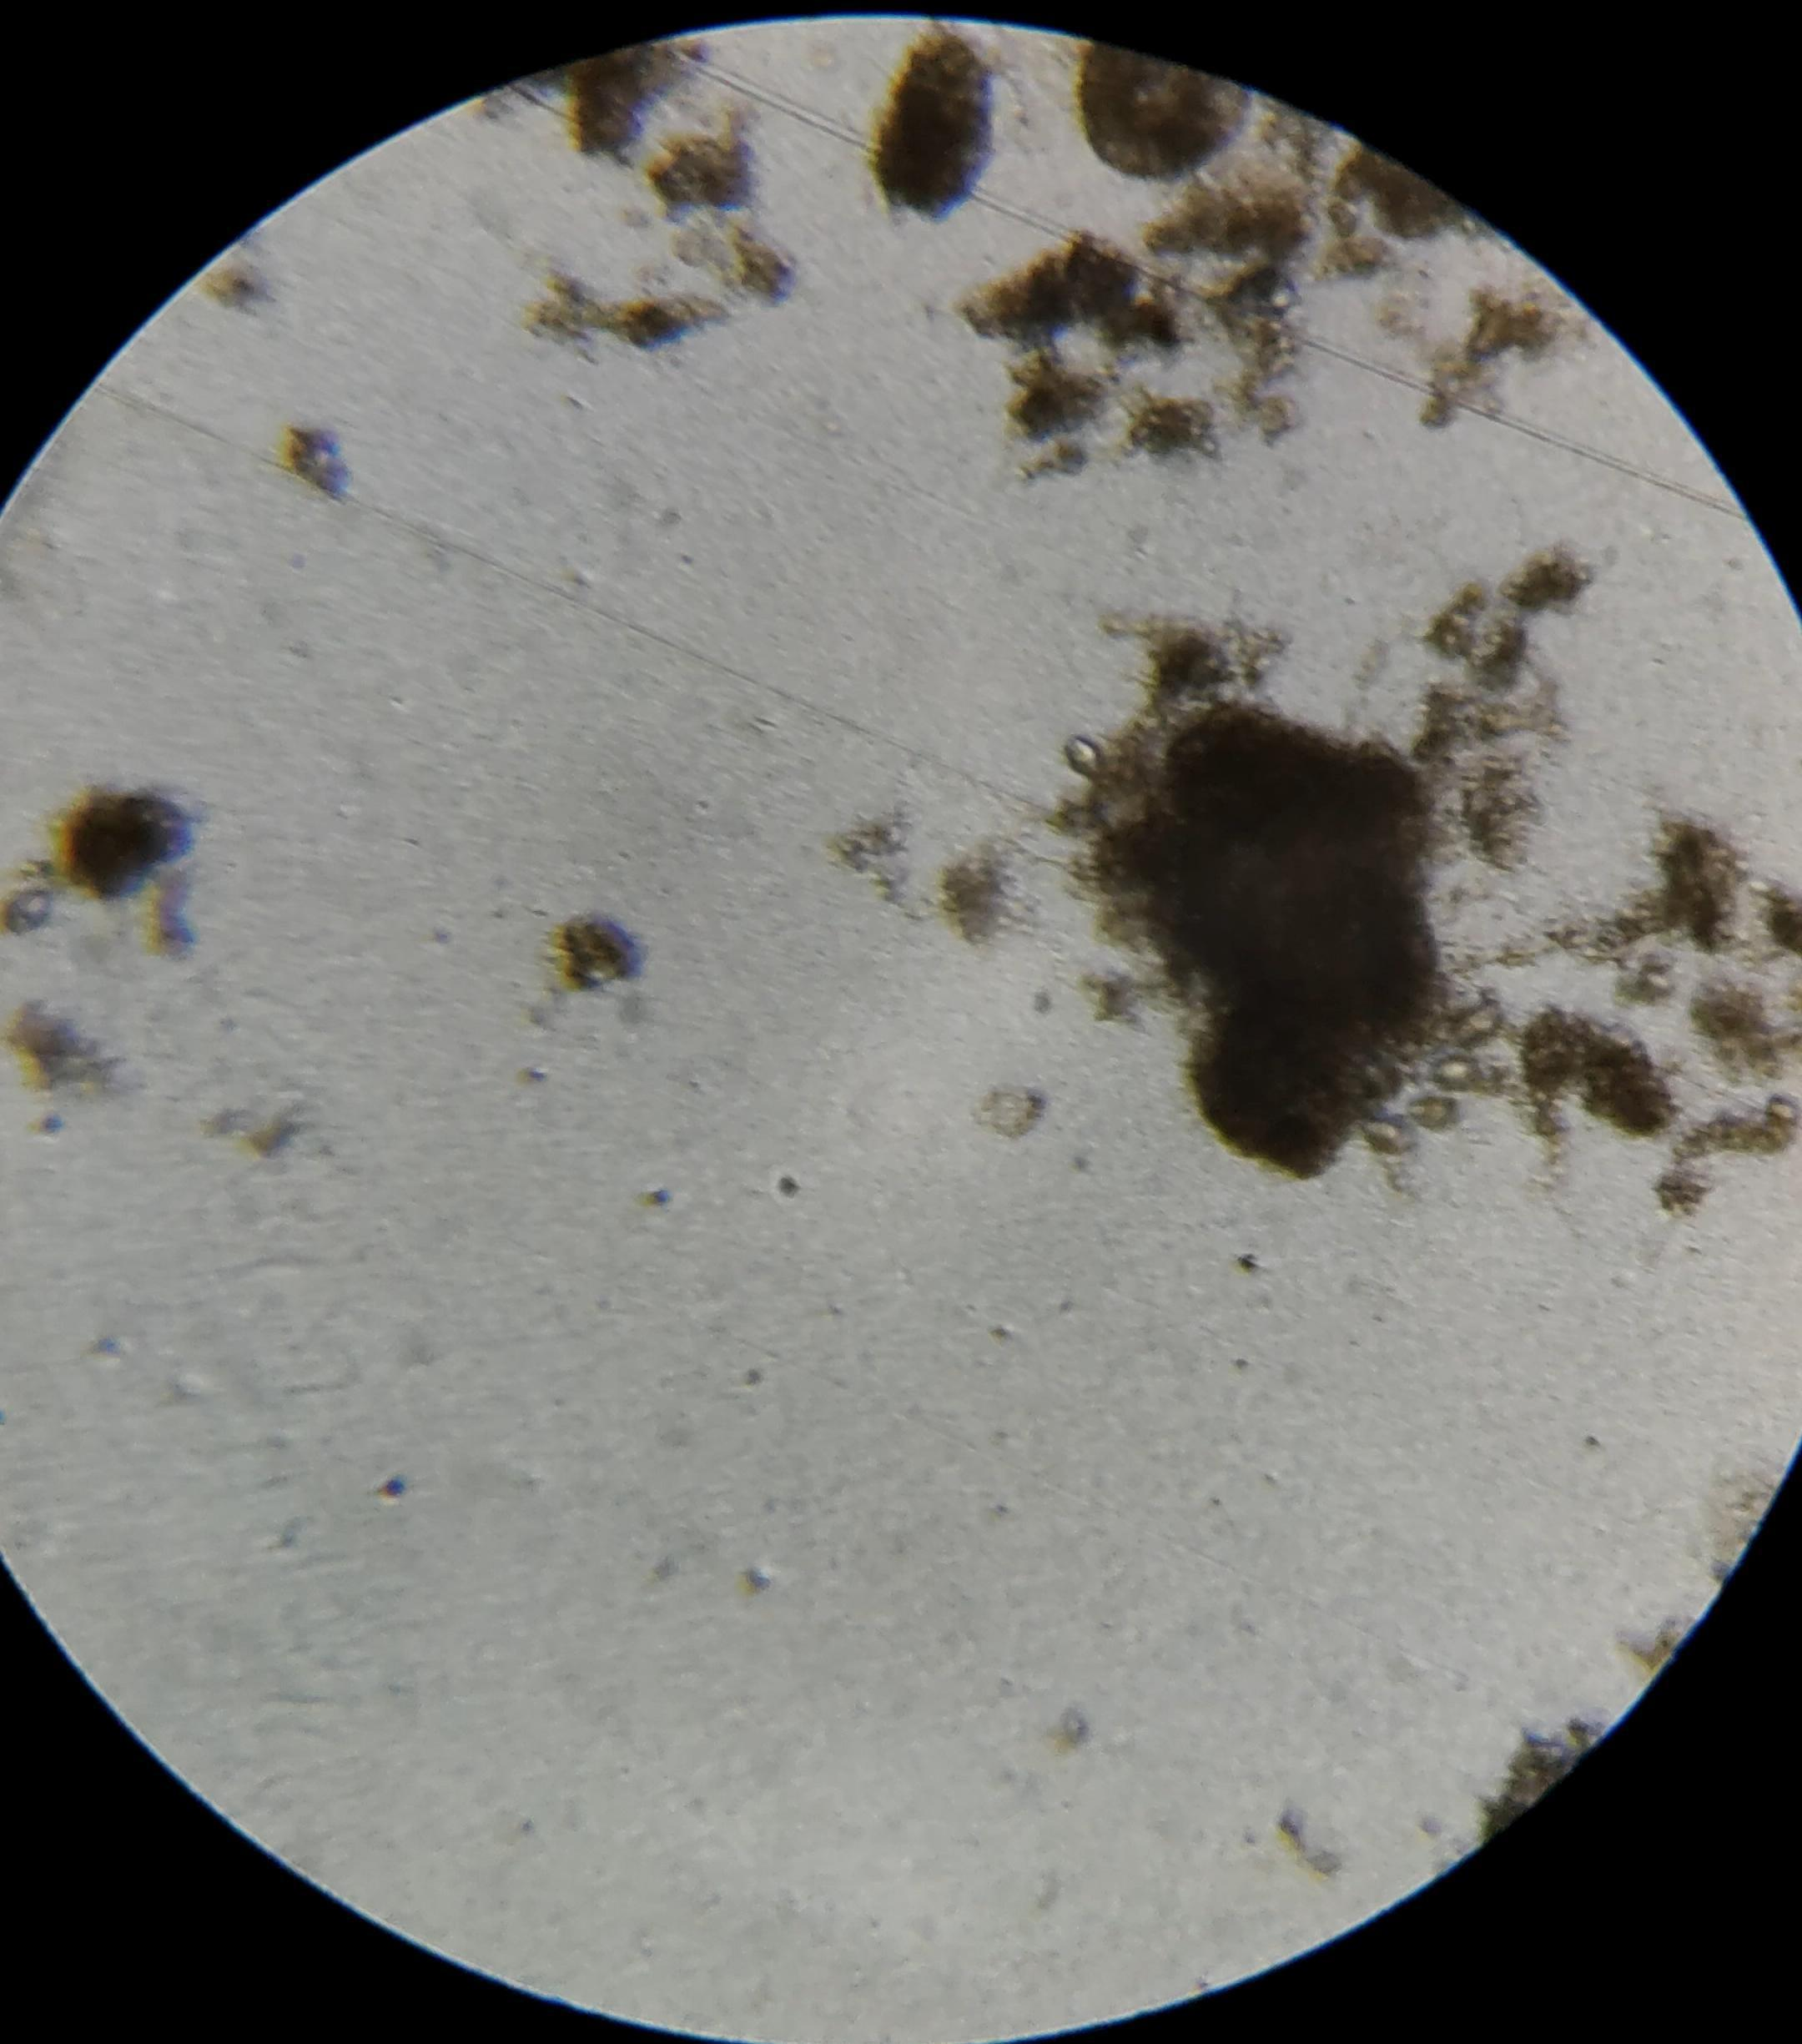Arcella: (1084, 43, 1247, 177)
